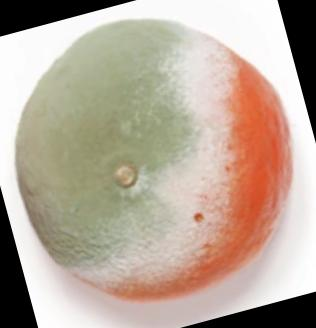Orange Rotten: (6, 19, 297, 302)
